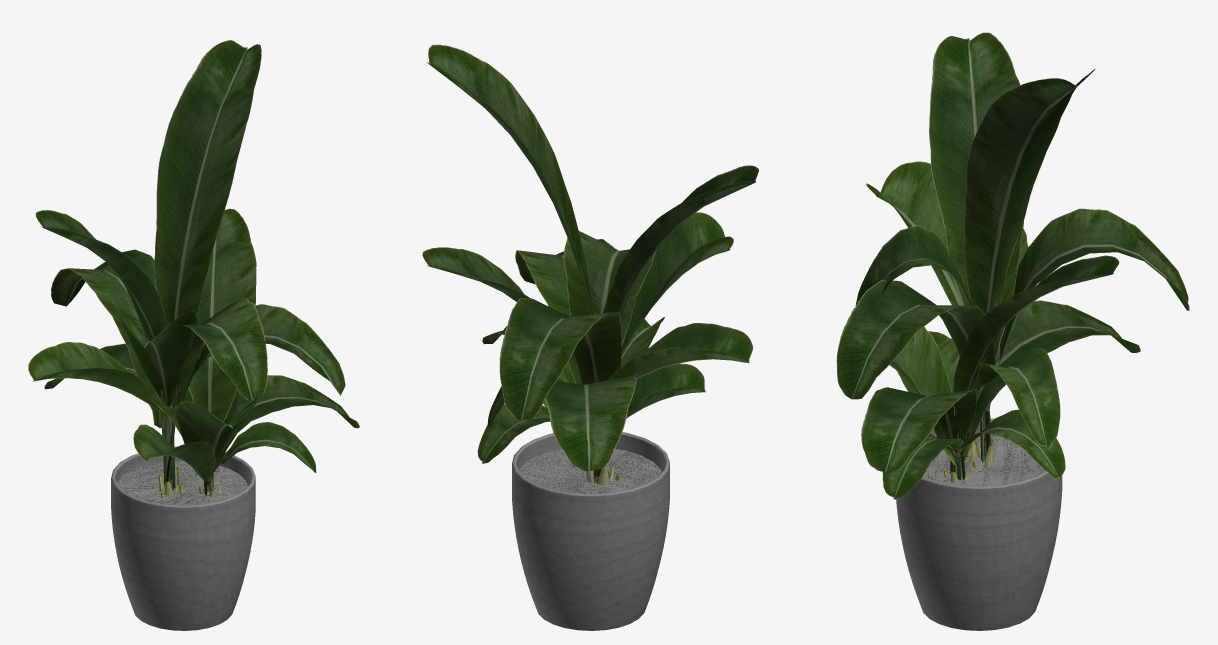
3 views of the same model, side by side, from view 1: azimuth 30°, elevation 25°; view 2: azimuth 150°, elevation 25°; view 3: azimuth 270°, elevation 25° (orthographic). The views are drawn at different scales.
Parts seen in each view (by area): view 1: Chinese_Yellow_Banana_Musella_Lasiocarpa_Component_04 (×3), tea_pot, Chinese_Yellow_Banana_Musella_Lasiocarpa_Component_02 (×5), Chinese_Yellow_Banana_Musella_Lasiocarpa_Component_03 (×4), group_1, Chinese_Yellow_Banana_Musella_Lasiocarpa_Component_01; view 2: Chinese_Yellow_Banana_Musella_Lasiocarpa_Component_02 (×4), tea_pot, Chinese_Yellow_Banana_Musella_Lasiocarpa_Component_04 (×3), Chinese_Yellow_Banana_Musella_Lasiocarpa_Component_03 (×4), group_1, Chinese_Yellow_Banana_Musella_Lasiocarpa_Component_01; view 3: Chinese_Yellow_Banana_Musella_Lasiocarpa_Component_02 (×5), Chinese_Yellow_Banana_Musella_Lasiocarpa_Component_04 (×3), tea_pot, Chinese_Yellow_Banana_Musella_Lasiocarpa_Component_01 (×3), Chinese_Yellow_Banana_Musella_Lasiocarpa_Component_03 (×3), group_1.
Part boxes in pixels (x1,y1,x2,y2): Chinese_Yellow_Banana_Musella_Lasiocarpa_Component_04 (×3): [35, 40, 261, 488]; tea_pot: [111, 446, 255, 630]; Chinese_Yellow_Banana_Musella_Lasiocarpa_Component_02 (×5): [44, 249, 359, 495]; Chinese_Yellow_Banana_Musella_Lasiocarpa_Component_03 (×4): [28, 301, 258, 491]; group_1: [117, 460, 247, 505]; Chinese_Yellow_Banana_Musella_Lasiocarpa_Component_01: [215, 422, 316, 477]; Chinese_Yellow_Banana_Musella_Lasiocarpa_Component_02 (×4): [499, 231, 656, 483]; tea_pot: [512, 432, 669, 630]; Chinese_Yellow_Banana_Musella_Lasiocarpa_Component_04 (×3): [422, 44, 758, 479]; Chinese_Yellow_Banana_Musella_Lasiocarpa_Component_03 (×4): [607, 212, 753, 418]; group_1: [519, 448, 661, 493]; Chinese_Yellow_Banana_Musella_Lasiocarpa_Component_01: [477, 403, 550, 463]; Chinese_Yellow_Banana_Musella_Lasiocarpa_Component_02 (×5): [836, 208, 1189, 473]; Chinese_Yellow_Banana_Musella_Lasiocarpa_Component_04 (×3): [929, 32, 1119, 479]; tea_pot: [896, 418, 1062, 630]; Chinese_Yellow_Banana_Musella_Lasiocarpa_Component_01 (×3): [882, 348, 1065, 499]; Chinese_Yellow_Banana_Musella_Lasiocarpa_Component_03 (×3): [866, 161, 984, 478]; group_1: [923, 435, 1045, 486].
Size of the model in its own units: 41.55 by 43.33 by 73.05.
Materials: 7 (6 with a texture image).
